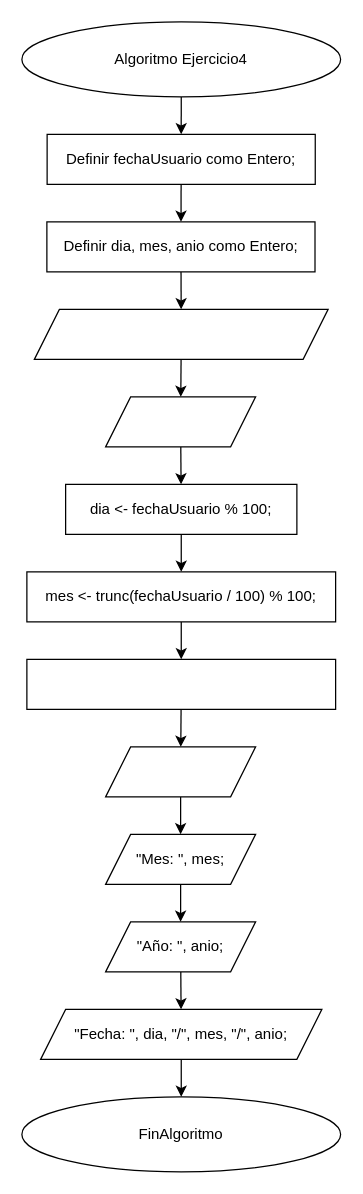
Image size: 363x1194. Some labels were removed from this diagram. The shapes that lost their labels are listed below. From the top down, each one's box as (x1, y1, x2, y2) in pixels, then its label:
(33, 308, 328, 359): "Ingrese fecha con el formato (AAAAMMDD): ";
(104, 396, 256, 447): fechaUsuario
(26, 658, 336, 709): anio <- trunc(fechaUsuario / 10000);
(104, 746, 256, 797): "Día: ", dia;
